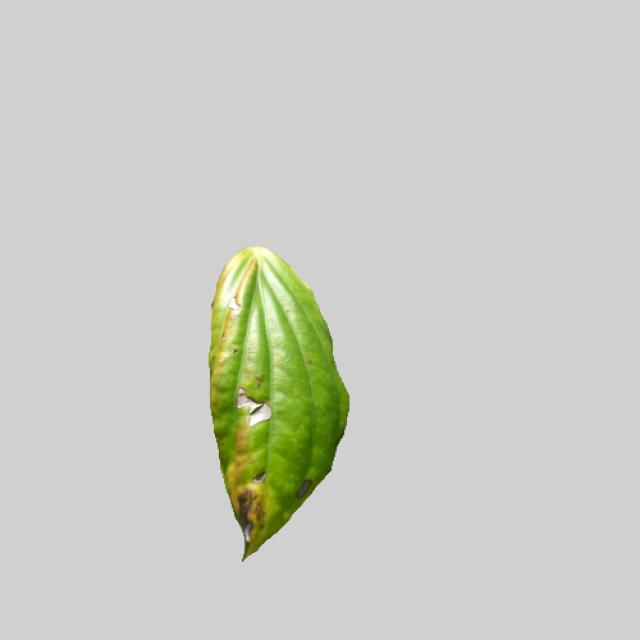yellow-mottle-virus: (193, 238, 348, 558)
